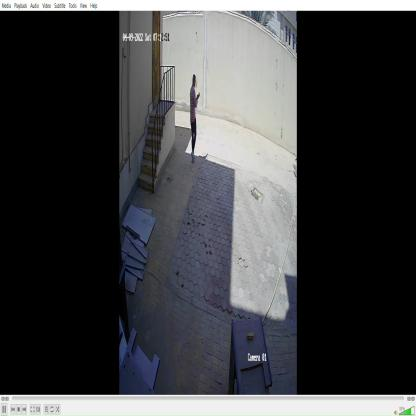handgun: (195, 91, 203, 105)
